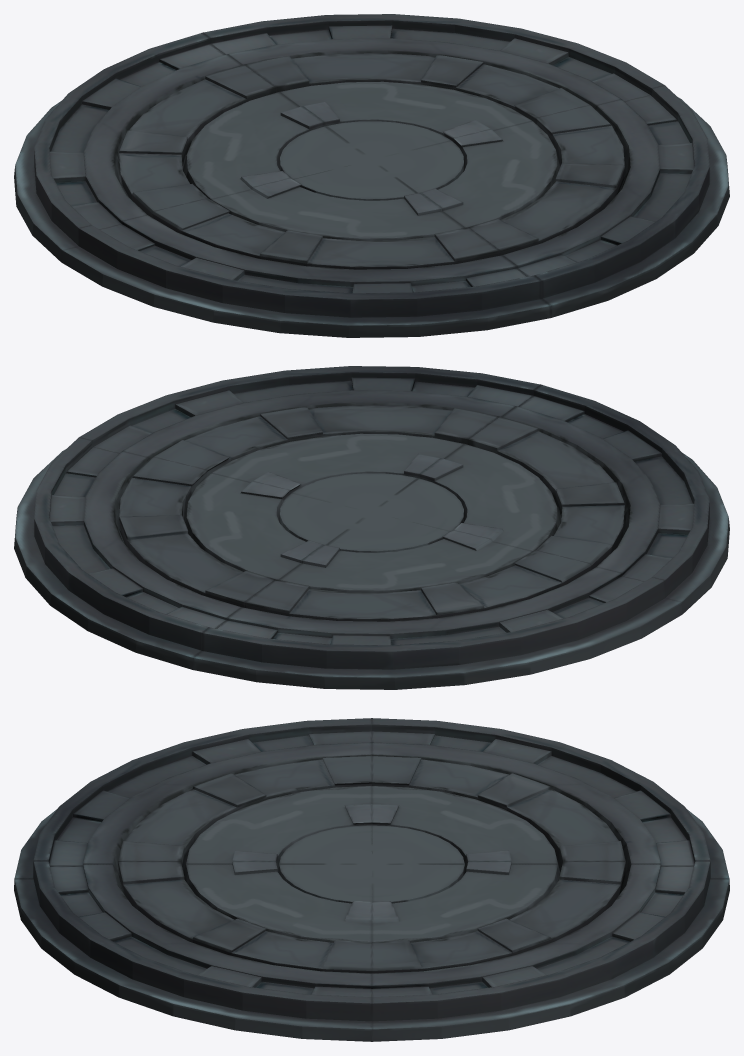
File: pointmoba.glb
3 renders of one model, top to bottom at view 1: azimuth 30°, elevation 25°; view 2: azimuth 150°, elevation 25°; view 3: azimuth 270°, elevation 25°, orthographic.
Parts seen in each view (by area): view 1: Cylinder; view 2: Cylinder; view 3: Cylinder.
Part boxes in pixels (bbox=[...]): Cylinder: bbox=[14, 14, 729, 337]; Cylinder: bbox=[14, 366, 729, 689]; Cylinder: bbox=[14, 718, 729, 1041].
Bounding box in the file's own units: 14.3 × 0.6556 × 14.3.
1 material, 1 textured.
